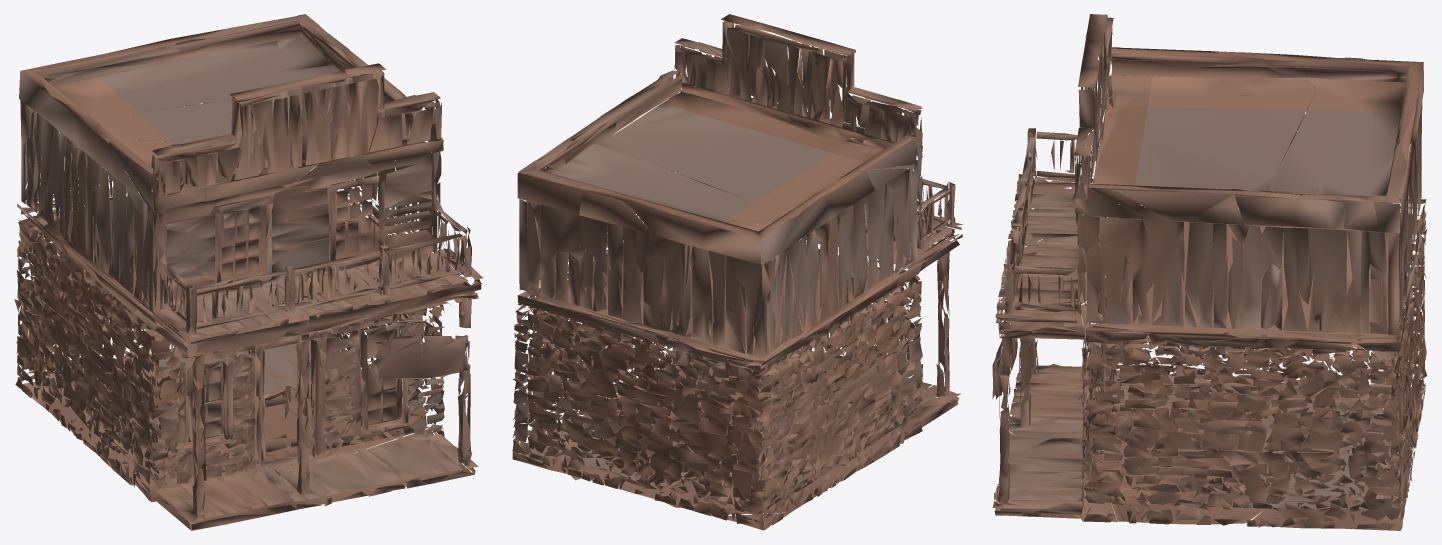
File: saloon.glb
3 renders of one model, left to right at view 1: azimuth 30°, elevation 25°; view 2: azimuth 150°, elevation 25°; view 3: azimuth 270°, elevation 25°, orthographic. The views are drawn at different scales.
Parts seen in each view (by area): view 1: LO.001; view 2: LO.001; view 3: LO.001.
Boxes of the visible parts, box(x1,y1,x2,y2) form: LO.001: box(14, 14, 483, 530); LO.001: box(512, 14, 963, 530); LO.001: box(992, 14, 1427, 530).
Size of the model in its own units: 1.58 by 1.92 by 1.85.
1 material, 1 textured.
